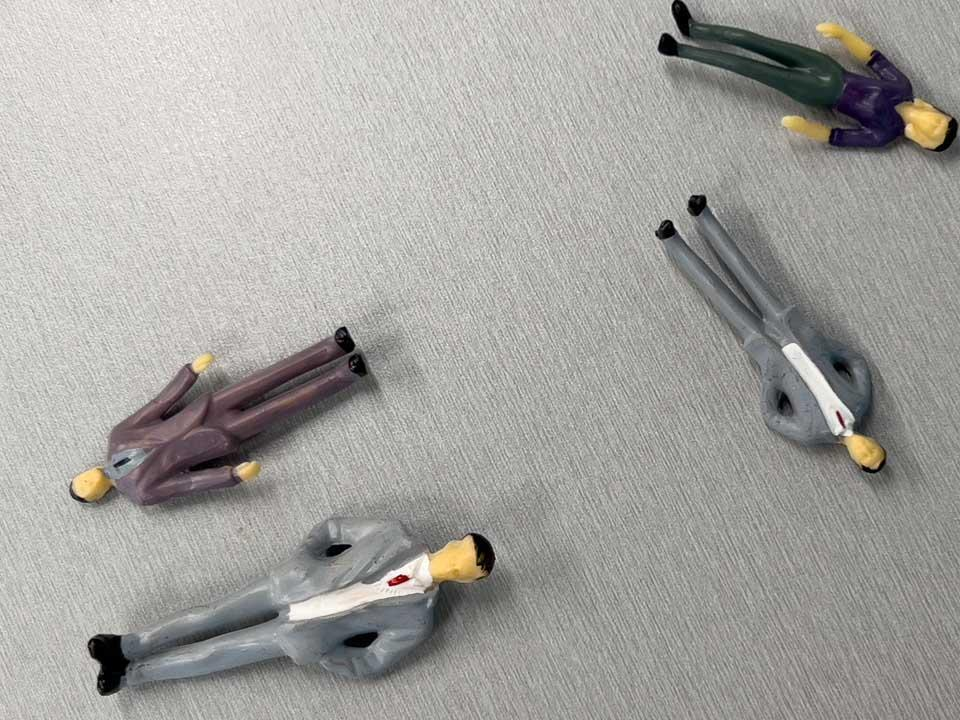human: (84, 515, 496, 698), (654, 193, 890, 476), (68, 324, 371, 509), (655, 0, 960, 153)
